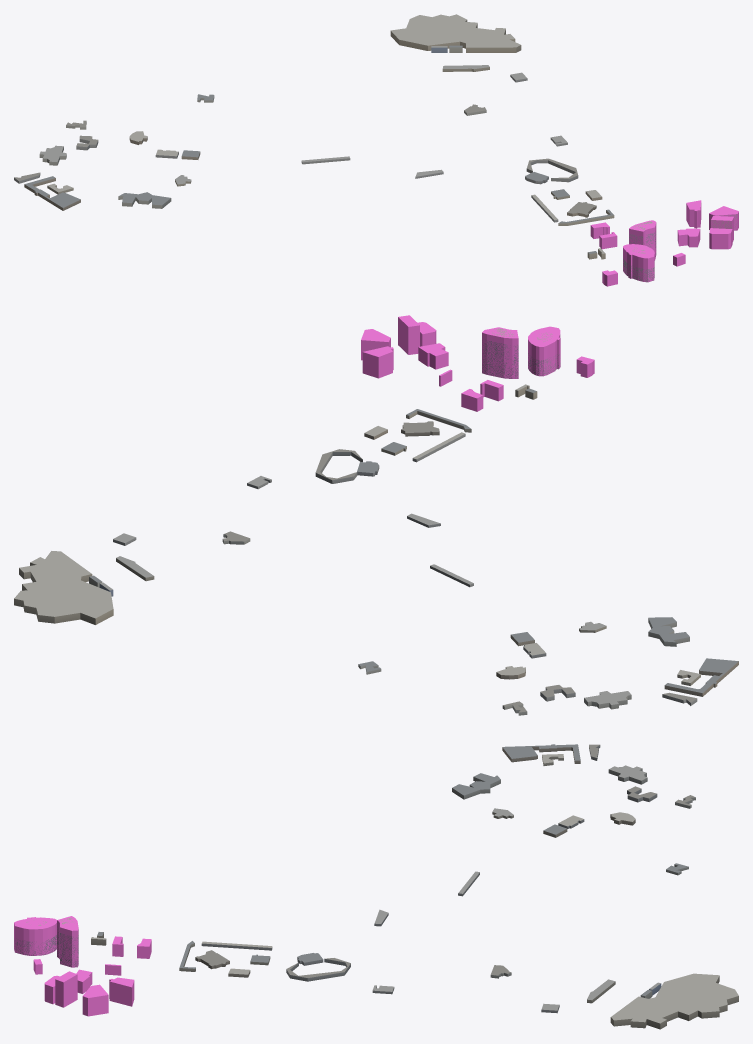
Rendered from bld_14_10.fbx.
3 renders of one model, top to bottom at view 1: azimuth 30°, elevation 25°; view 2: azimuth 150°, elevation 25°; view 3: azimuth 270°, elevation 25°, orthographic. The views are drawn at different scales.
Parts seen in each view (by area): view 1: bld_14_10_LOD0, bld_14_10_COL; view 2: bld_14_10_LOD0, bld_14_10_COL; view 3: bld_14_10_LOD0, bld_14_10_COL.
Part boxes in pixels (x1,y1,x2,y2): bld_14_10_LOD0: (14,14,736,282); bld_14_10_COL: (590,200,738,286); bld_14_10_LOD0: (14,328,738,715); bld_14_10_COL: (361,315,594,411); bld_14_10_LOD0: (14,744,738,1029); bld_14_10_COL: (14,916,151,1016).
Size of what is drawn, in the model's own units: 2006 by 122 by 2180.
